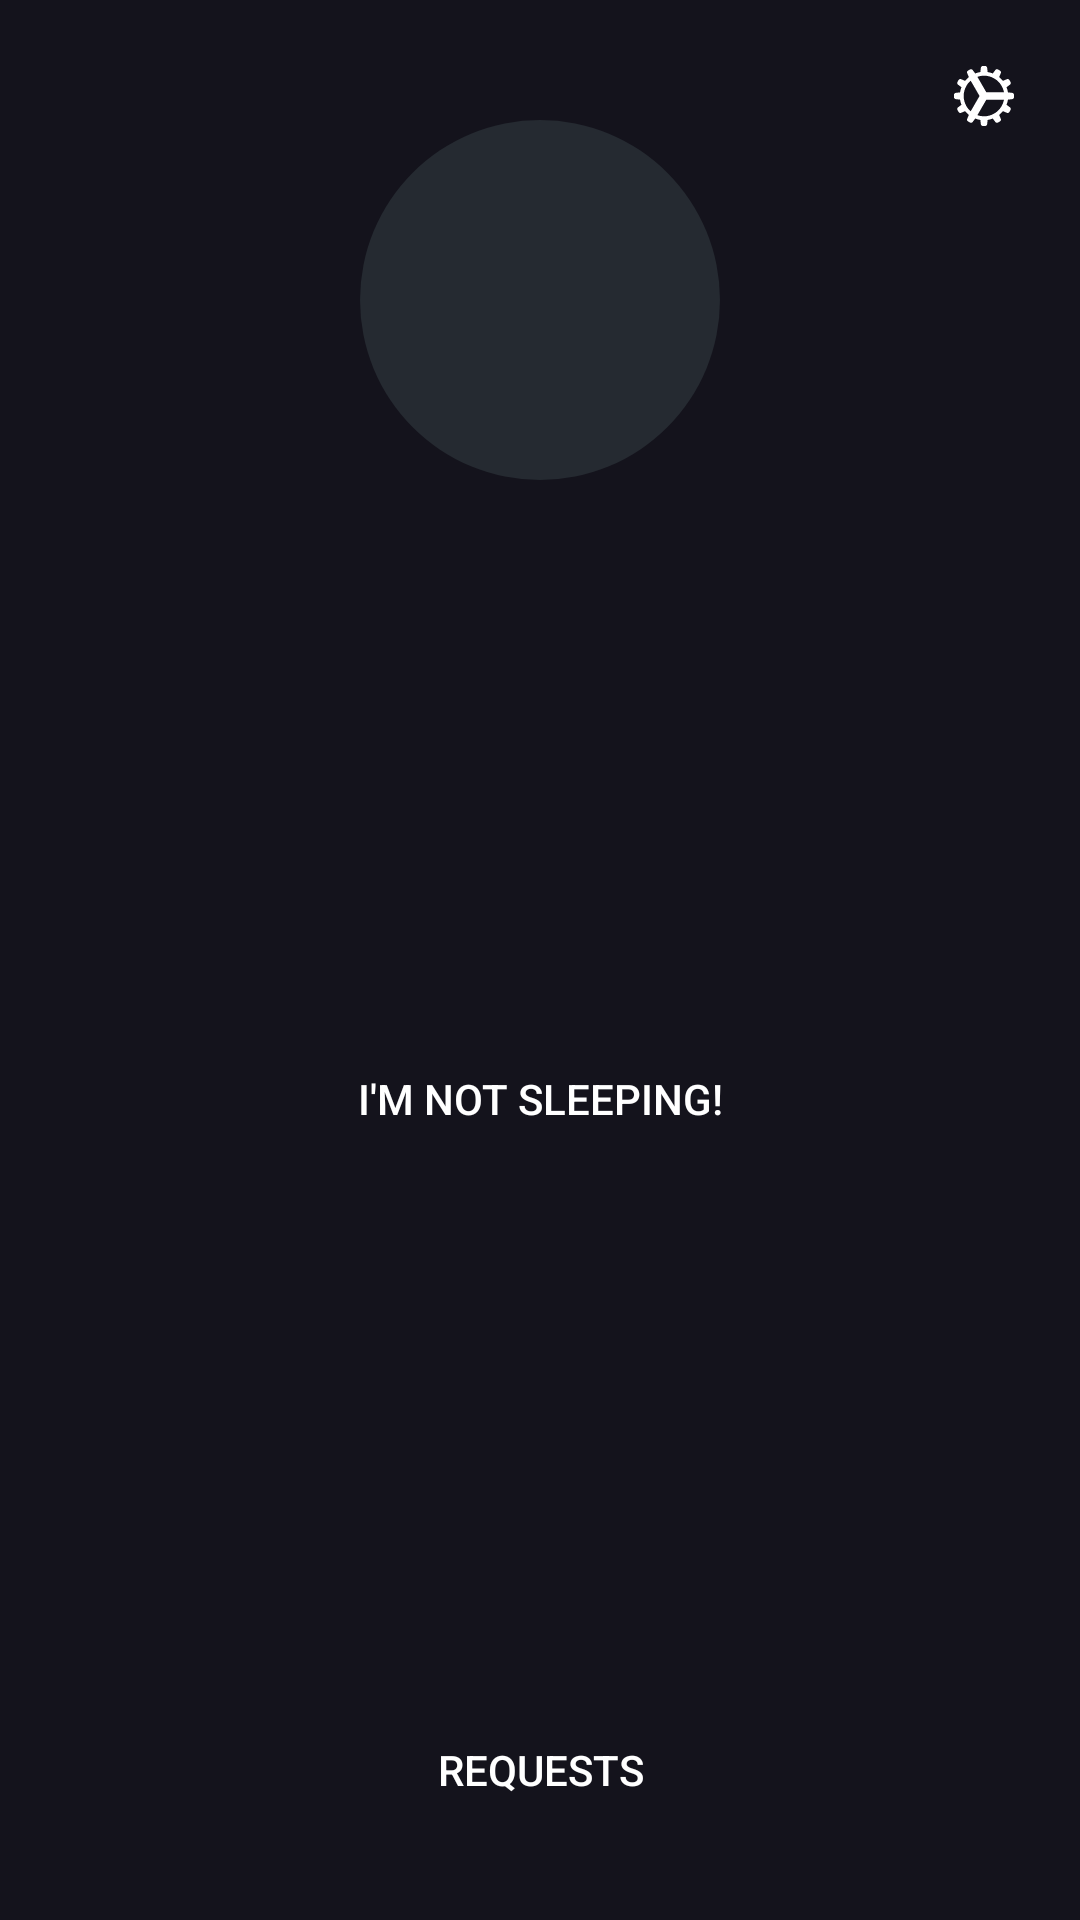

Icons on this 1080 × 1920 Android screen, each with its box as Rect(x1, y1, x2, y2):
settings: Rect(954, 66, 1014, 126)
